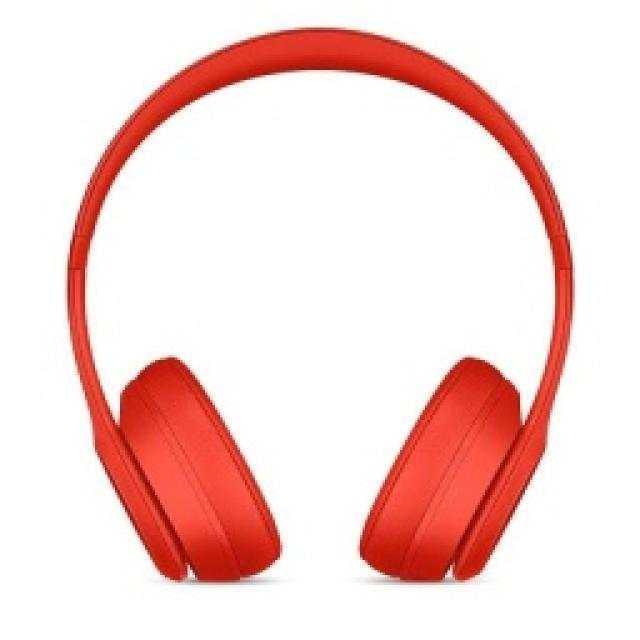headphones: (65, 25, 575, 583)
